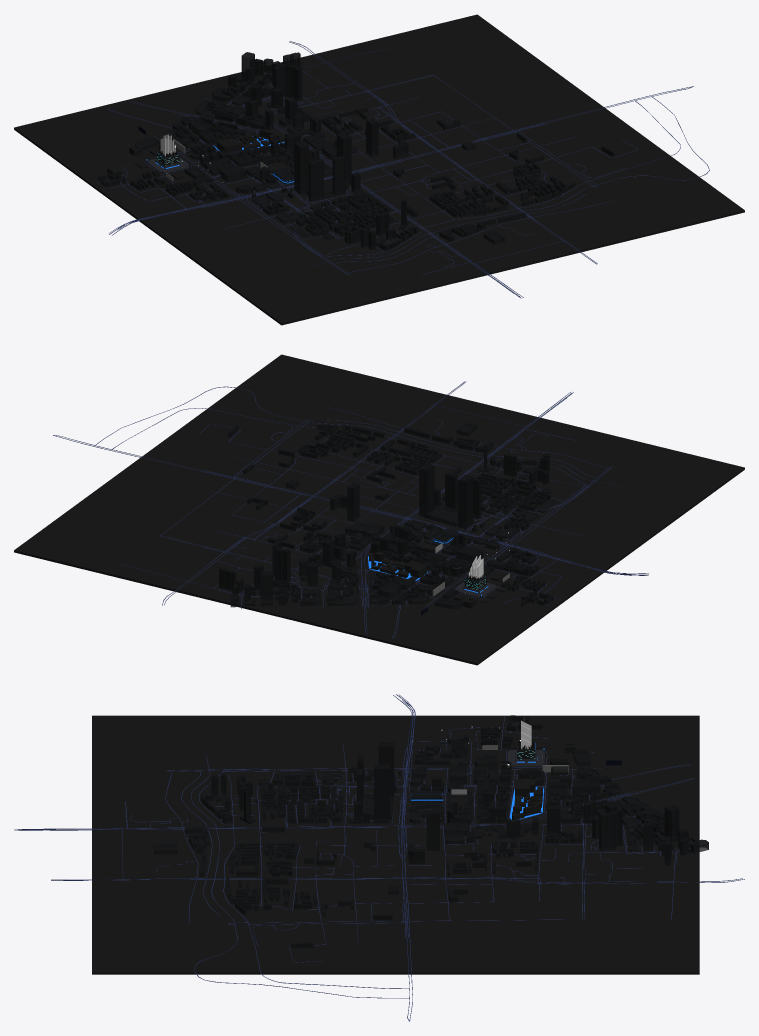
3 renders of one model, top to bottom at view 1: azimuth 30°, elevation 25°; view 2: azimuth 150°, elevation 25°; view 3: azimuth 270°, elevation 25°, orthographic. The views are drawn at different scales.
Visible parts, largest first — view 1: 基础, 透明建筑, Ways, 不透明建筑; view 2: 基础, 透明建筑, Ways, 不透明建筑; view 3: 基础, 透明建筑, Ways, 不透明建筑.
Boxes of the visible parts, x1=… form: 基础: x1=14, y1=14, x2=744, y2=325; 透明建筑: x1=98, y1=52, x2=614, y2=250; Ways: x1=96, y1=41, x2=709, y2=298; 不透明建筑: x1=157, y1=129, x2=284, y2=165; 基础: x1=14, y1=354, x2=744, y2=665; 透明建筑: x1=219, y1=422, x2=556, y2=609; Ways: x1=53, y1=381, x2=648, y2=638; 不透明建筑: x1=369, y1=552, x2=486, y2=590; 基础: x1=92, y1=715, x2=699, y2=974; 透明建筑: x1=153, y1=715, x2=708, y2=948; Ways: x1=14, y1=694, x2=744, y2=1021; 不透明建筑: x1=512, y1=742, x2=543, y2=819.
Size of what is drawn, in the model's own units: 24549 by 2129 by 23179.
